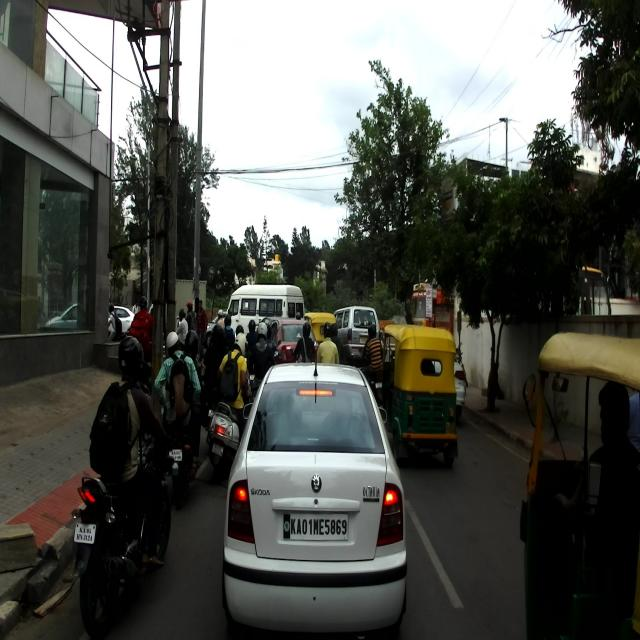autorickshaw: (518, 328, 639, 638), (378, 322, 458, 470)
car: (222, 355, 408, 638), (261, 316, 318, 364)
motorcycle: (72, 429, 176, 639)
scooter: (207, 389, 256, 481)
